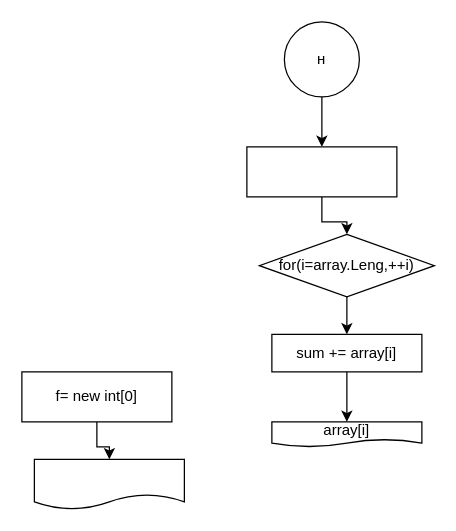
Image size: 456x531. Some labels were removed from this diagram. The shapes that lost their labels are listed below. From the top down, each one's centre as x and y in pixels, then its label:
At (321,171): "sum(int[] array) random()".
At (108,483): "sum(f)".
